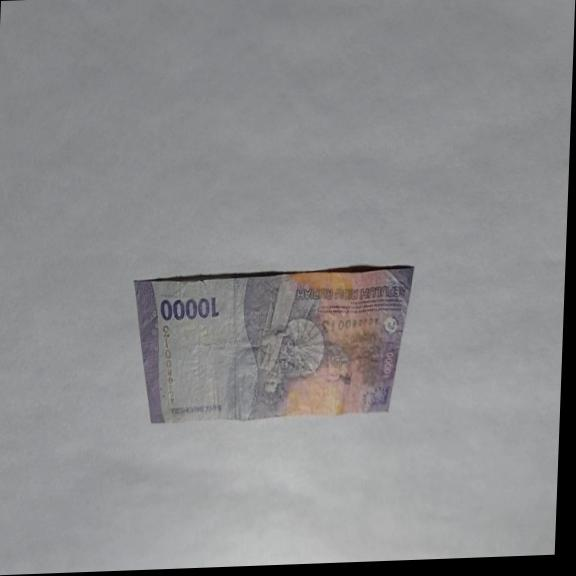Kertas: (127, 263, 414, 427), (158, 294, 220, 323)
